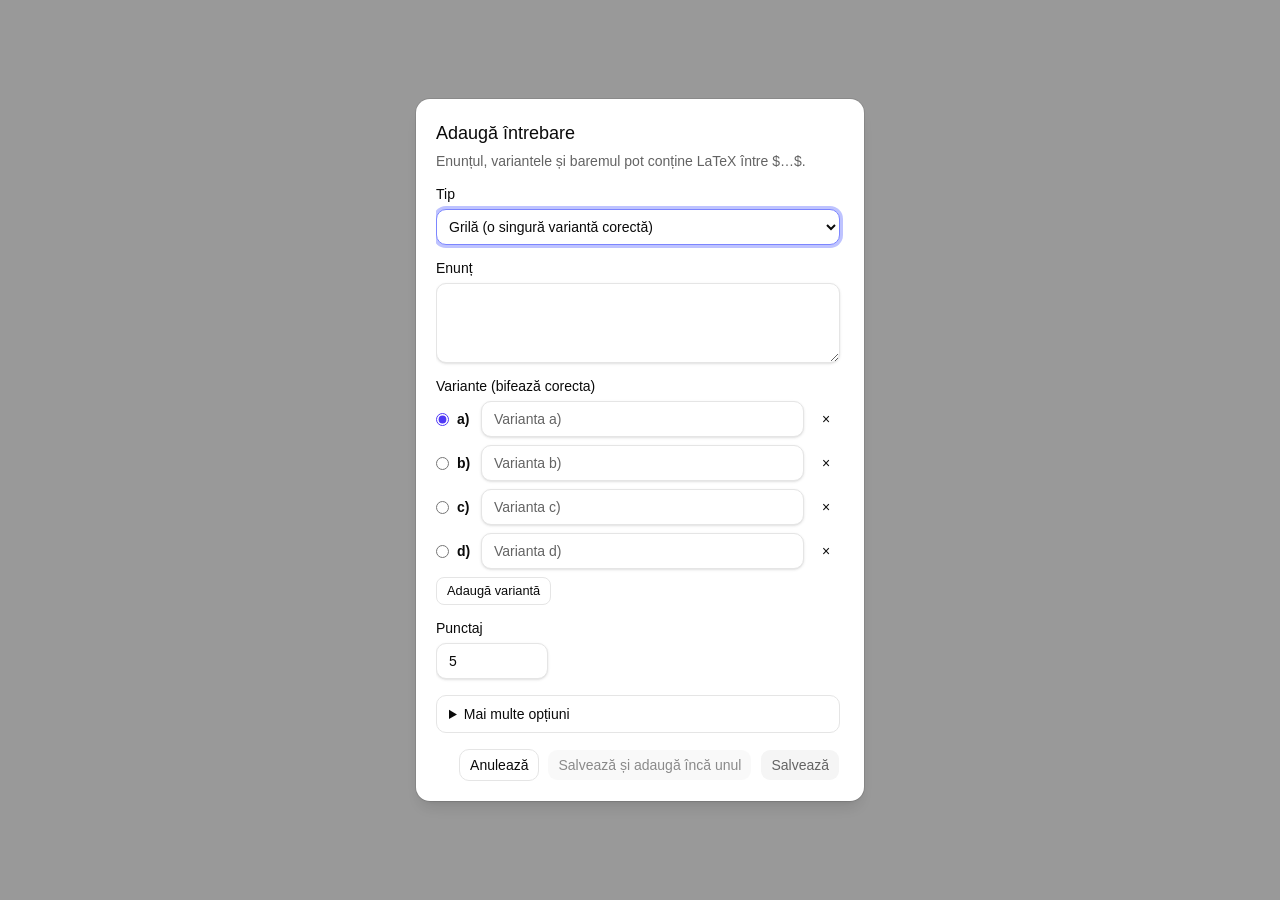
Scenario: ItemDialog quick entry › moves to a new option on Enter in the last one instead of saving
Step 1. Type "ultima" into the field with placeholder "Varianta d)" → (642, 551), box [481,533,804,569]
Then press Enter
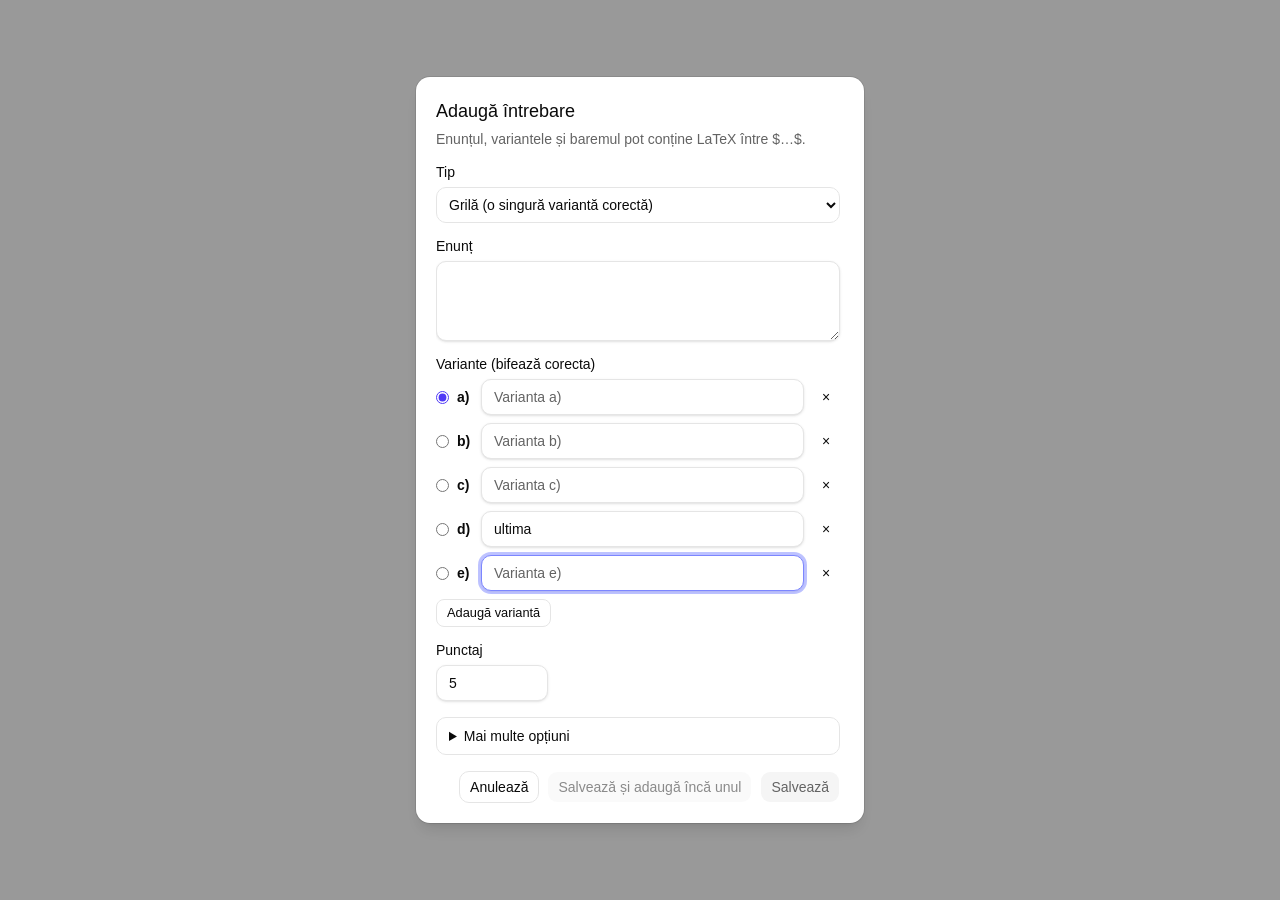
expect the number of radio buttons named "Varianta a) corectă" is 5: met, box [436,390,449,404]; [436,434,449,448]; [436,478,449,492]; [436,522,449,536]; [436,566,449,580]
